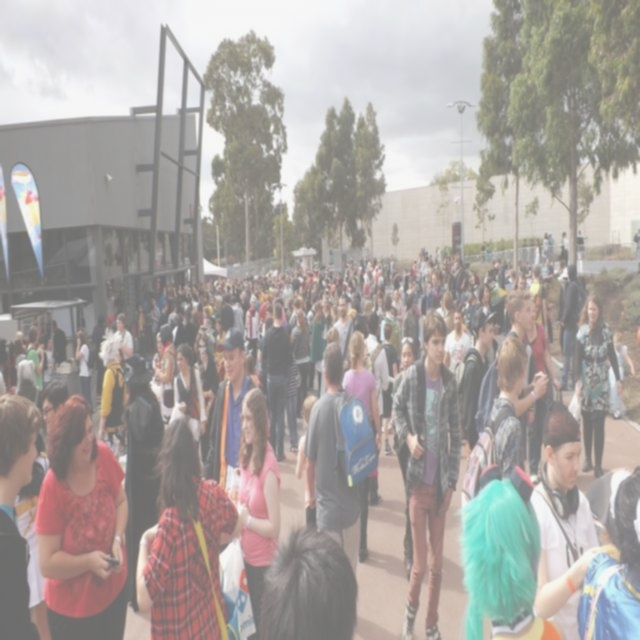pessoa: (110, 224, 598, 318), (32, 394, 135, 640), (136, 410, 242, 640), (397, 308, 460, 640), (454, 478, 562, 640), (529, 402, 602, 637), (229, 384, 291, 640), (302, 340, 363, 579), (251, 518, 365, 638), (120, 354, 164, 602), (576, 470, 640, 640), (475, 290, 538, 462), (203, 327, 258, 511), (341, 329, 383, 566), (570, 287, 613, 482), (522, 294, 561, 488), (389, 334, 416, 578), (460, 306, 500, 462), (487, 335, 529, 480), (363, 309, 390, 507), (261, 301, 289, 462), (172, 342, 208, 454), (97, 342, 129, 461), (193, 327, 220, 466), (557, 263, 584, 392), (295, 394, 319, 526), (154, 322, 179, 430), (607, 329, 635, 422), (381, 322, 398, 456), (318, 326, 346, 400), (442, 306, 472, 374), (309, 300, 329, 400), (292, 311, 310, 421), (74, 329, 95, 422), (332, 293, 354, 373), (40, 378, 70, 436), (24, 324, 44, 409), (148, 331, 166, 418), (401, 292, 422, 360), (15, 358, 42, 409), (112, 312, 134, 360), (211, 318, 228, 376), (116, 346, 130, 408), (40, 336, 56, 388), (170, 317, 215, 334), (52, 319, 68, 364), (132, 318, 162, 338), (244, 353, 260, 388), (632, 224, 640, 274), (231, 317, 273, 325)
